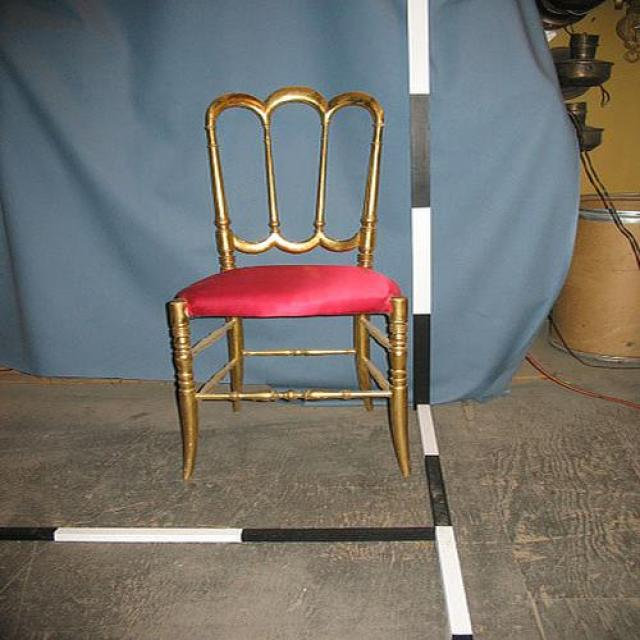chair: (165, 87, 415, 483)
